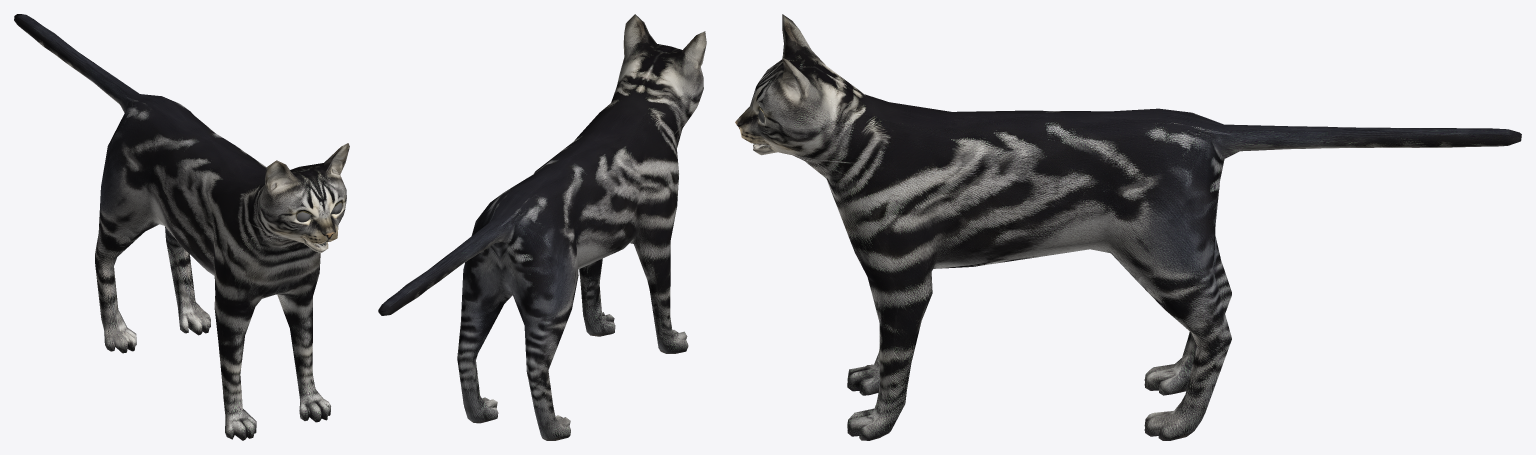
The picture shows the model from 3 angles, left to right: view 1: azimuth 30°, elevation 25°; view 2: azimuth 150°, elevation 25°; view 3: azimuth 270°, elevation 25°; orthographic projection. The views are drawn at different scales.
Parts seen in each view (by area): view 1: Mesh_0; view 2: Mesh_0; view 3: Mesh_0.
Boxes of the visible parts, x1,y1,x2,y2 form: Mesh_0: [14, 14, 349, 440]; Mesh_0: [378, 14, 706, 440]; Mesh_0: [735, 14, 1521, 440].
Size of the model in its own units: 39.05 by 105 by 200.
1 material, 1 textured.
